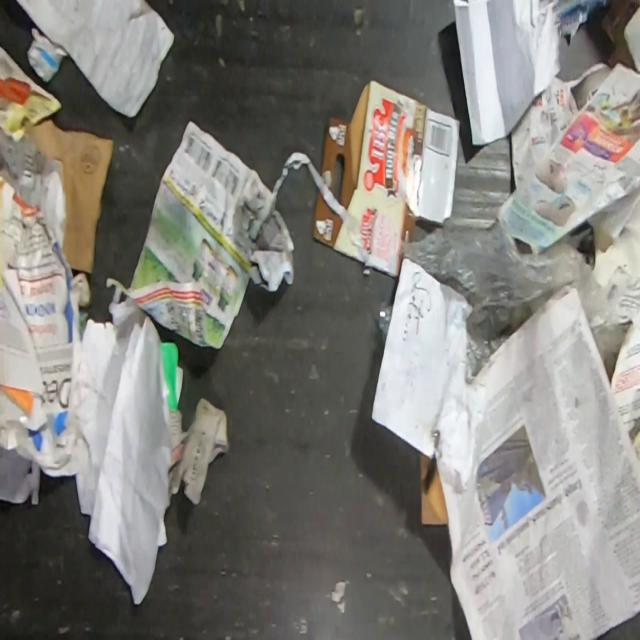cardboard: (319, 78, 461, 277), (0, 115, 115, 276), (310, 185, 365, 262), (414, 449, 448, 526)
soft_plastic: (401, 215, 633, 386), (376, 302, 394, 342)
